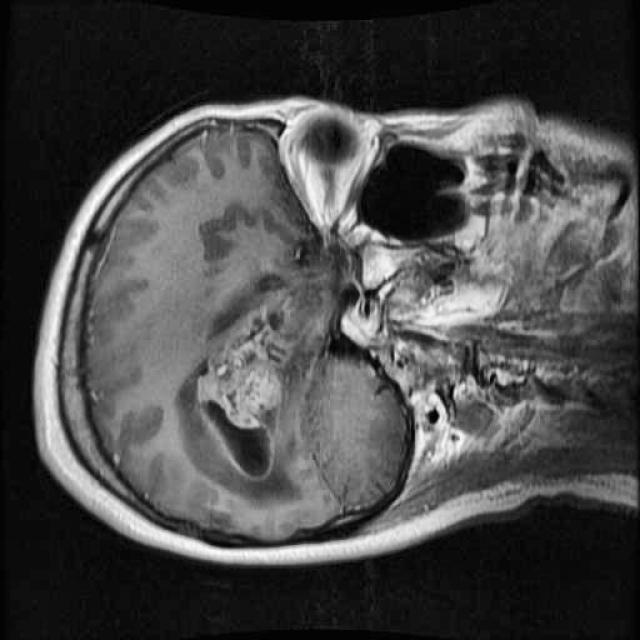Tumor: (195, 282, 321, 470)
